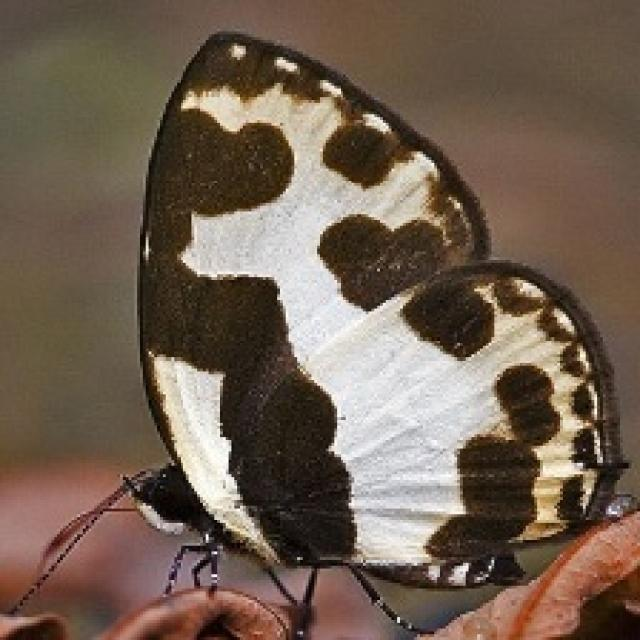butterfly: (3, 26, 637, 637)
